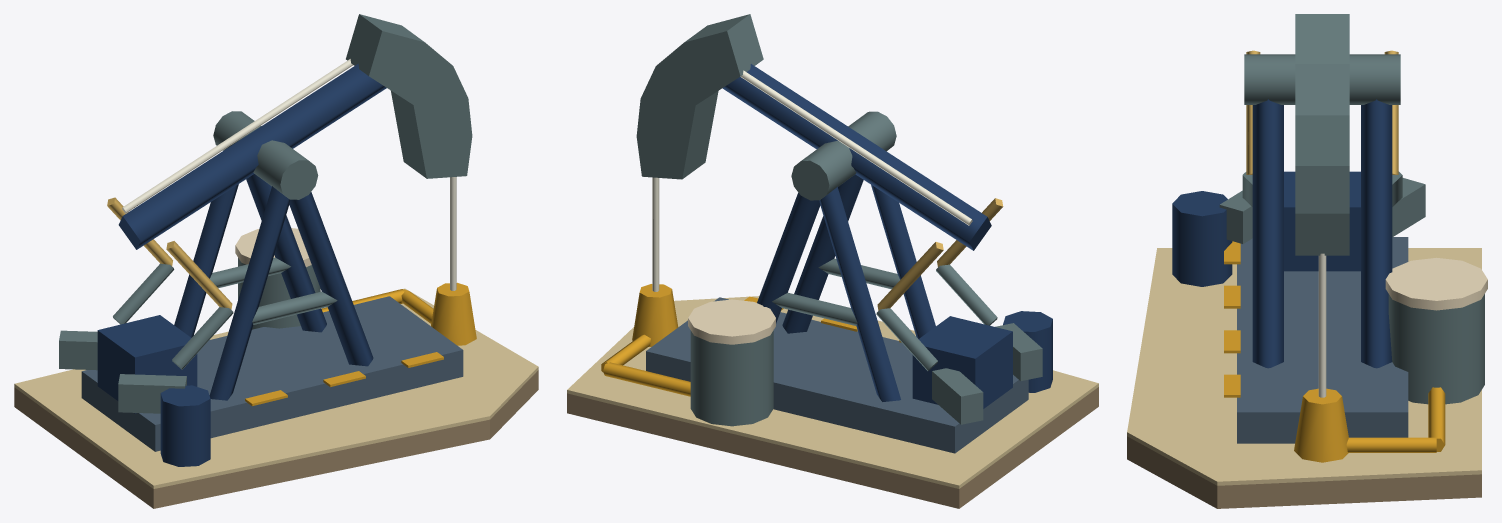
Rendered from oil-well-lv1.glb.
3 views of the same model, side by side, from view 1: azimuth 30°, elevation 25°; view 2: azimuth 150°, elevation 25°; view 3: azimuth 270°, elevation 25° (orthographic). The views are drawn at different scales.
Parts seen in each view (by area): view 1: foundation_sand, pump_foundation_slate, a_frame_legs_naval, curved_horsehead_iron, foundation_stoneDark, walking_beam_naval, gearbox_naval, motor_naval, counterweight_iron, saddle_bearing_iron, crank_arm_iron, a_frame_bracing_iron (+8 smaller); view 2: pump_foundation_slate, foundation_sand, a_frame_legs_naval, curved_horsehead_iron, foundation_stoneDark, walking_beam_naval, storage_tank_iron, gearbox_naval, saddle_bearing_iron, counterweight_iron, tank_lid_cream, crank_arm_iron (+7 smaller); view 3: foundation_sand, pump_foundation_slate, a_frame_legs_naval, curved_horsehead_iron, foundation_stoneDark, storage_tank_iron, saddle_bearing_iron, motor_naval, tank_lid_cream, wellhead_ochre, gearbox_naval, counterweight_iron (+5 smaller).
Part boxes in pixels (box(x1,y1,x2,y2)): foundation_sand: box(14, 288, 538, 488); pump_foundation_slate: box(81, 296, 463, 451); a_frame_legs_naval: box(174, 174, 373, 400); curved_horsehead_iron: box(346, 14, 472, 178); foundation_stoneDark: box(14, 370, 538, 508); walking_beam_naval: box(118, 63, 386, 249); gearbox_naval: box(97, 315, 197, 413); motor_naval: box(160, 385, 210, 466); counterweight_iron: box(59, 330, 186, 413); saddle_bearing_iron: box(213, 111, 318, 199); crank_arm_iron: box(113, 263, 233, 369); a_frame_bracing_iron: box(210, 257, 337, 324); pump_foundation_slate: box(646, 297, 1028, 453); foundation_sand: box(567, 296, 1098, 488); a_frame_legs_naval: box(757, 174, 935, 401); curved_horsehead_iron: box(636, 14, 763, 179); foundation_stoneDark: box(567, 387, 1098, 508); walking_beam_naval: box(722, 64, 991, 250); storage_tank_iron: box(690, 330, 773, 426); gearbox_naval: box(912, 316, 1012, 408); saddle_bearing_iron: box(791, 111, 896, 200); counterweight_iron: box(932, 323, 1042, 424); tank_lid_cream: box(688, 299, 775, 344); crank_arm_iron: box(876, 264, 997, 370); foundation_sand: box(1127, 248, 1481, 485); pump_foundation_slate: box(1237, 237, 1408, 443); a_frame_legs_naval: box(1252, 99, 1392, 368); curved_horsehead_iron: box(1295, 14, 1349, 255); foundation_stoneDark: box(1127, 436, 1481, 508); storage_tank_iron: box(1388, 294, 1484, 404); saddle_bearing_iron: box(1244, 54, 1400, 104); motor_naval: box(1172, 191, 1232, 286); tank_lid_cream: box(1385, 257, 1487, 310); wellhead_ochre: box(1294, 388, 1348, 462); gearbox_naval: box(1284, 171, 1360, 271); counterweight_iron: box(1219, 178, 1425, 243).
Bounding box in the file's own units: 1 × 0.8478 × 0.6522.
